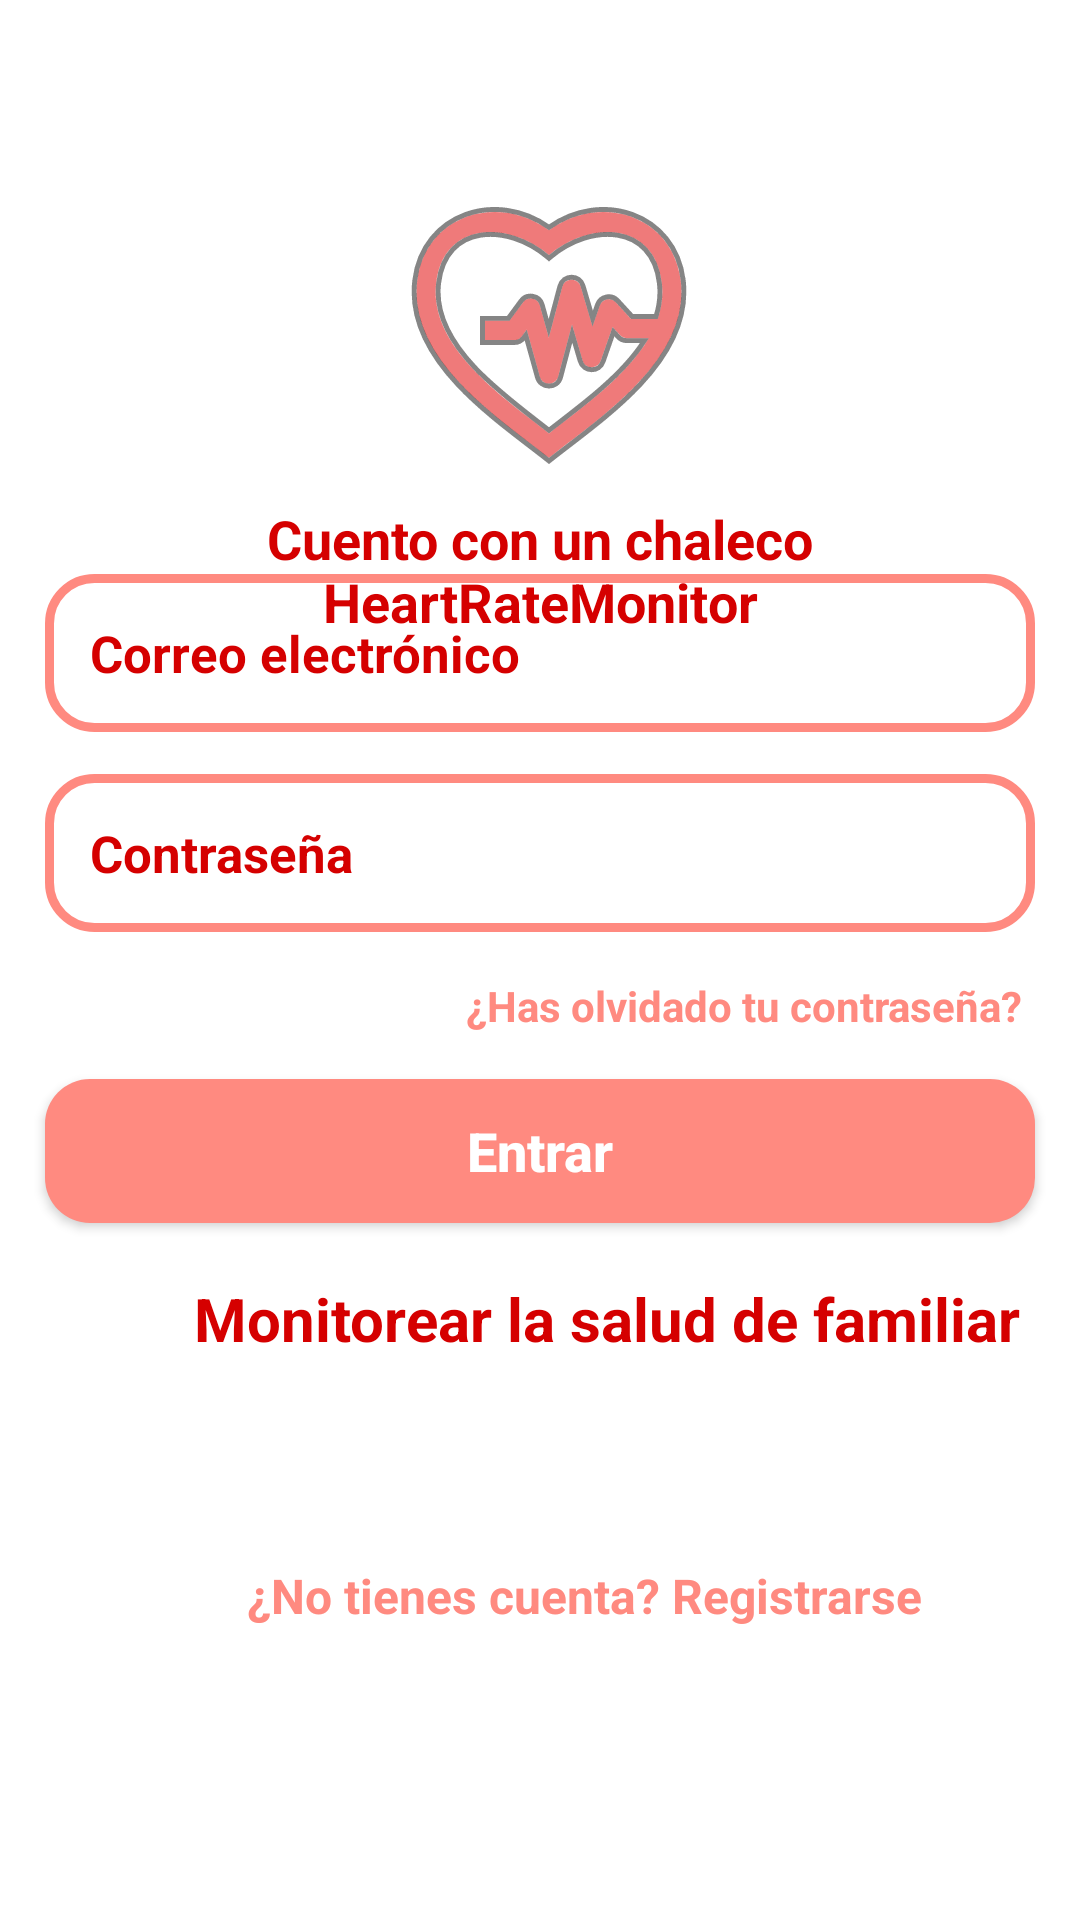

Screen size 1080x1920. Icon name, then its center in pixels as [x,y]:
corazon: [549,335]
